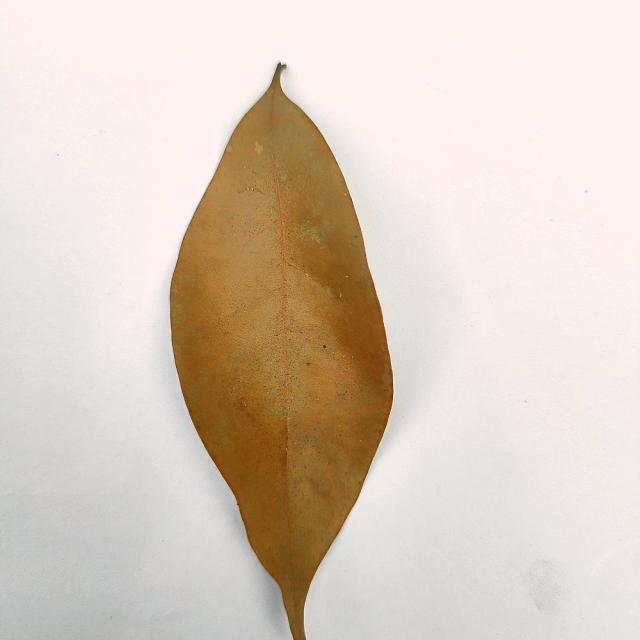Dry_Leaf-Lychee: (169, 65, 396, 639)
